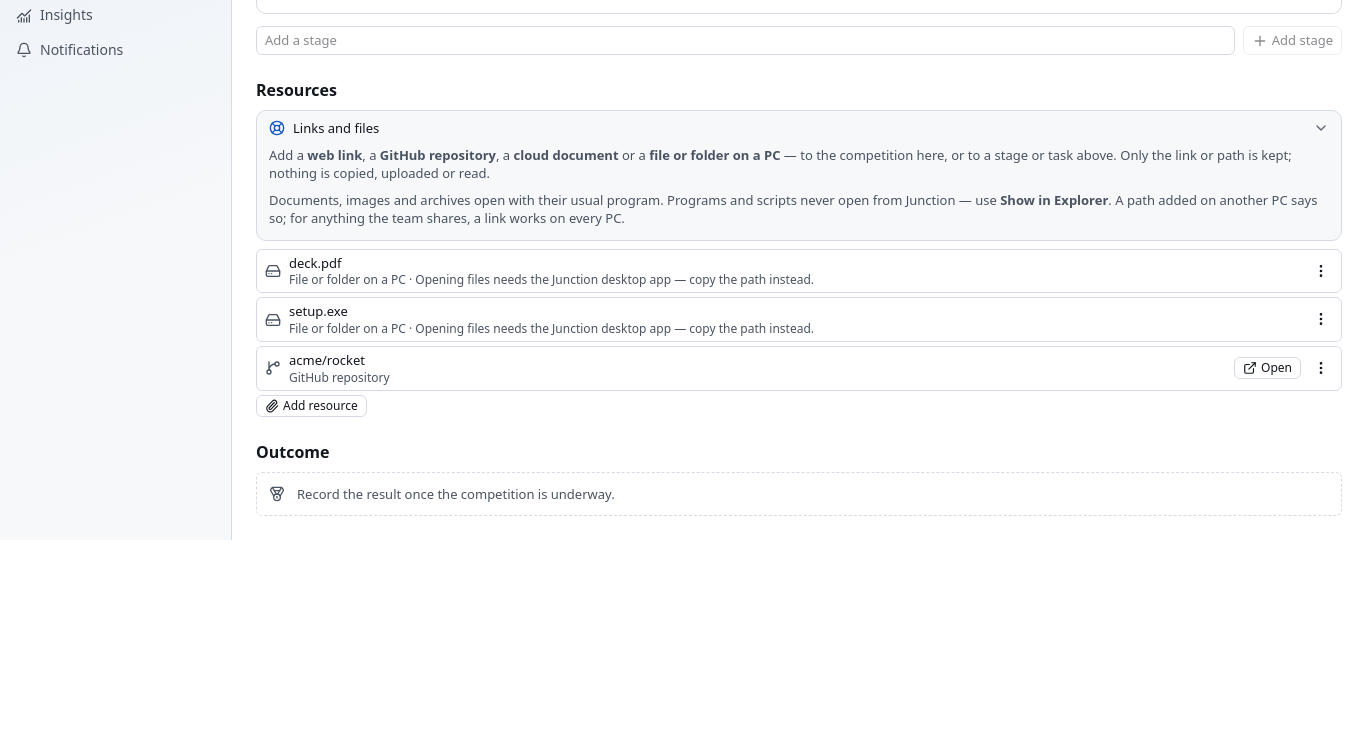
Test: adding and removing › removing confirms first
The width and height of the screenshot is (1366, 751).
(page scrolled)
Expected: the list named "Resources of this competition" is shown, [256, 249, 1342, 390]
Click the button named "Actions for acme/rocket" at [1321, 368], box [1309, 356, 1333, 380]
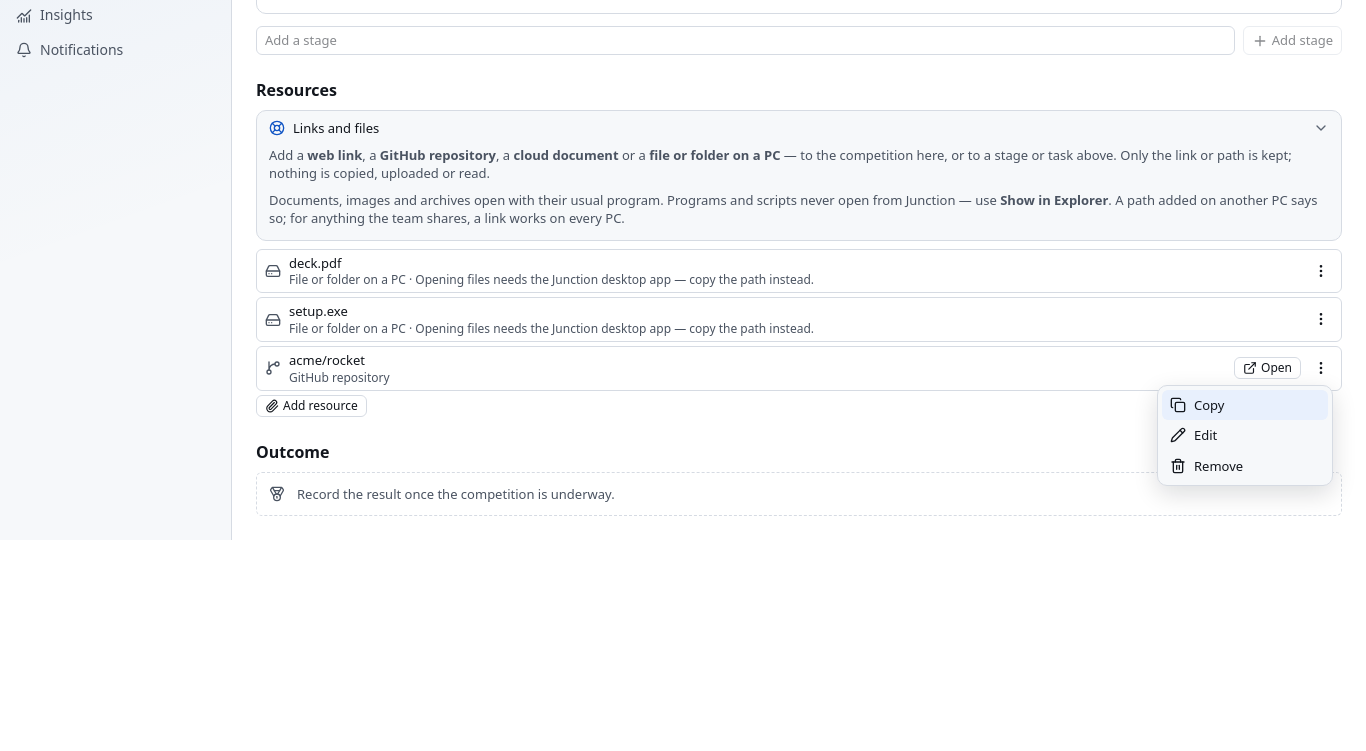
Click the menu item "Remove" at [1245, 466], box [1162, 451, 1328, 481]
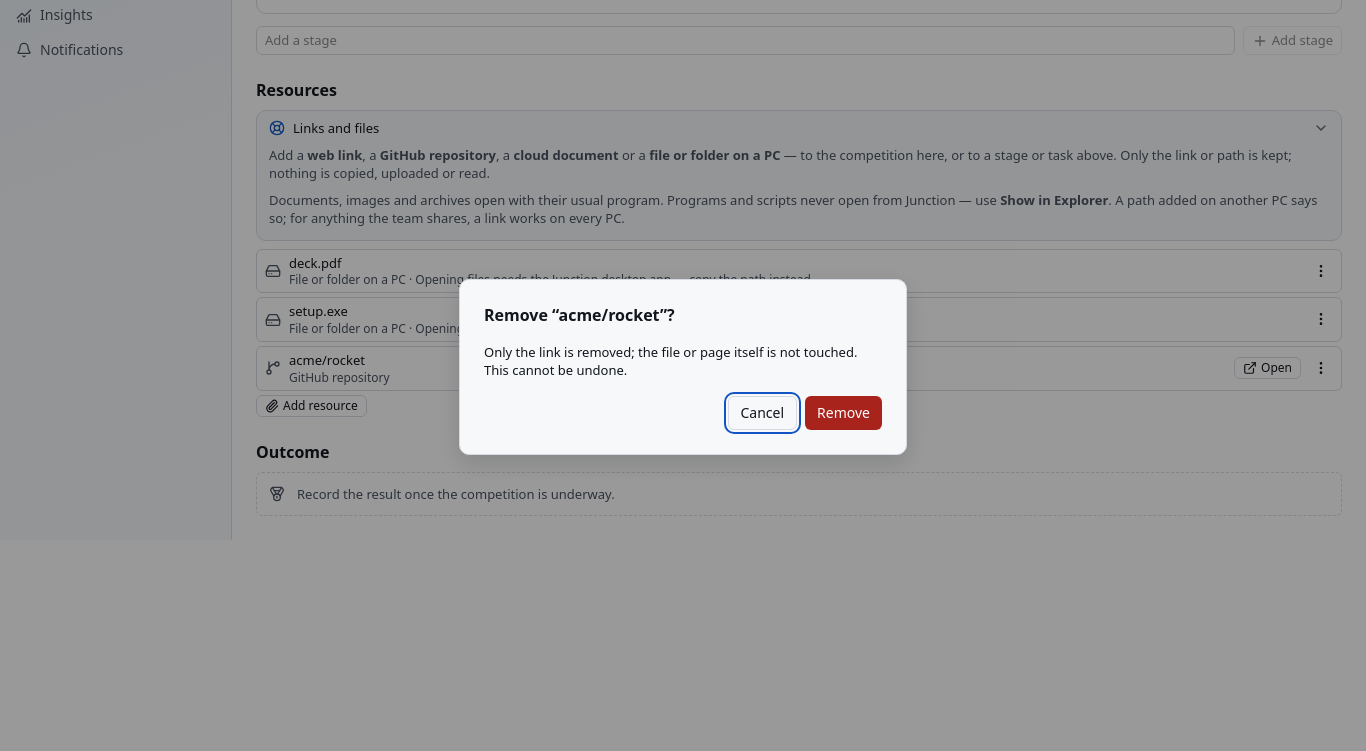
Now the text "the file or page itself is not touched" is shown, box [484, 343, 857, 361]
Click the button "Remove" at [844, 413], box [805, 396, 882, 430]
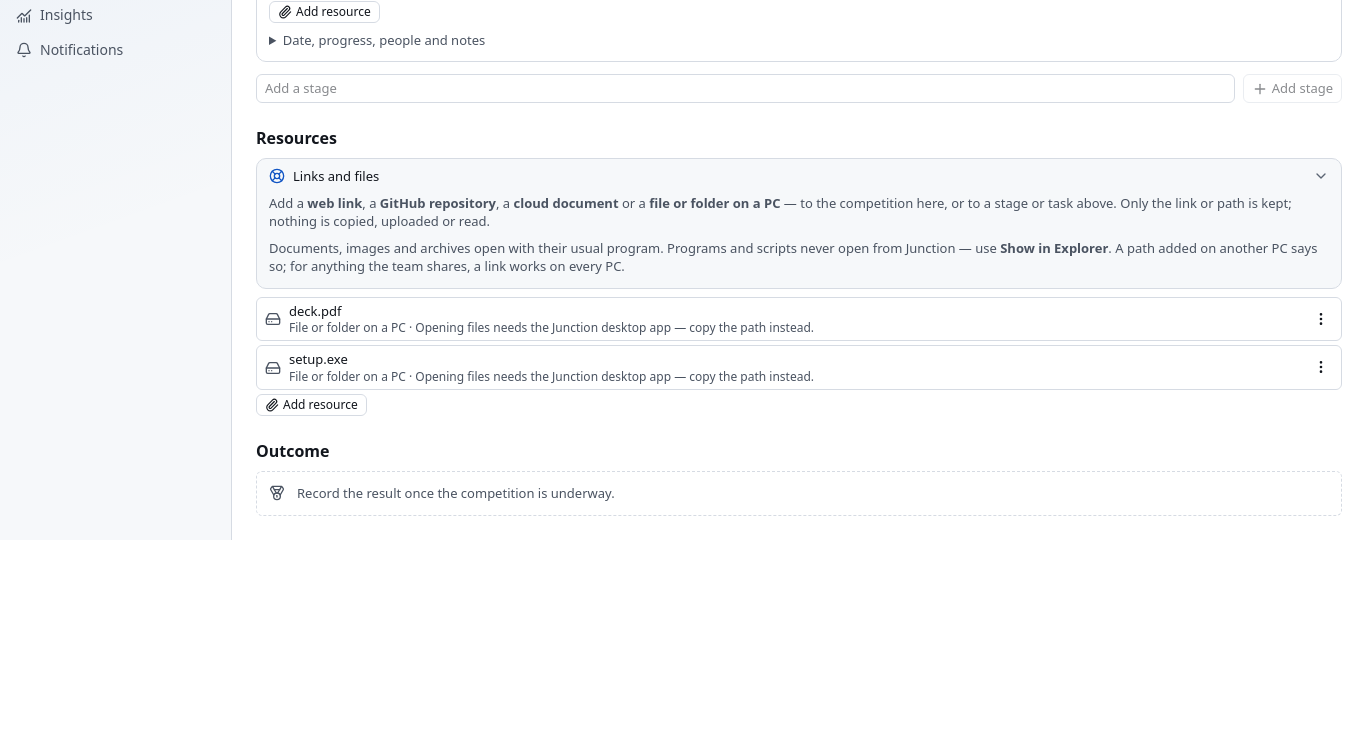
Now the text "acme/rocket" is gone
